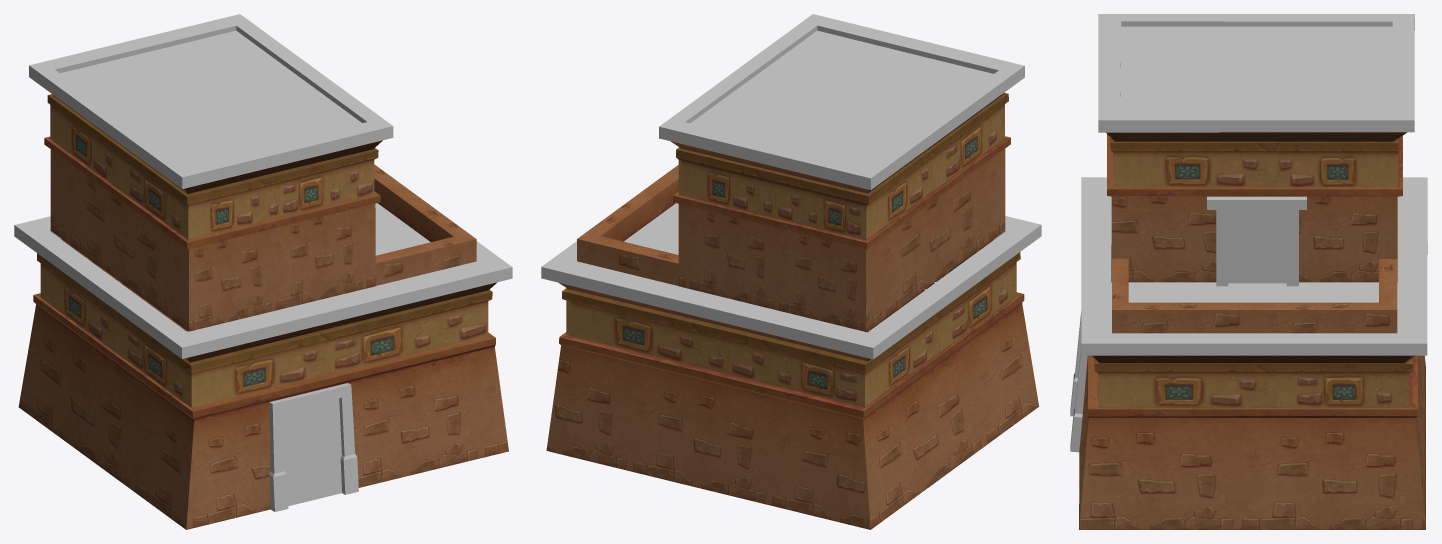
The model's file is SV_BUD_desert_mingju2_0.FBX.
The picture shows the model from 3 angles, left to right: view 1: azimuth 30°, elevation 25°; view 2: azimuth 150°, elevation 25°; view 3: azimuth 270°, elevation 25°; orthographic projection. The views are drawn at different scales.
Parts seen in each view (by area): view 1: SV_BUD_desert_mingju1_0_qiang, SV_BUD_desert_mingju2_0_top, SV_BUD_desert_mingju2_0_chuang; view 2: SV_BUD_desert_mingju1_0_qiang, SV_BUD_desert_mingju2_0_top, SV_BUD_desert_mingju2_0_chuang; view 3: SV_BUD_desert_mingju1_0_qiang, SV_BUD_desert_mingju2_0_top, SV_BUD_desert_mingju2_0_chuang.
Part boxes in pixels (<box>): SV_BUD_desert_mingju1_0_qiang: <box>18,136,508,529</box>; SV_BUD_desert_mingju2_0_top: <box>14,14,512,511</box>; SV_BUD_desert_mingju2_0_chuang: <box>37,94,496,407</box>; SV_BUD_desert_mingju1_0_qiang: <box>546,136,1038,529</box>; SV_BUD_desert_mingju2_0_top: <box>541,14,1041,359</box>; SV_BUD_desert_mingju2_0_chuang: <box>558,92,1020,407</box>; SV_BUD_desert_mingju1_0_qiang: <box>1079,134,1425,529</box>; SV_BUD_desert_mingju2_0_top: <box>1070,14,1427,452</box>; SV_BUD_desert_mingju2_0_chuang: <box>1092,132,1415,407</box>.
Bounding box in the file's own units: 7.47 × 7.46 × 6.77.
